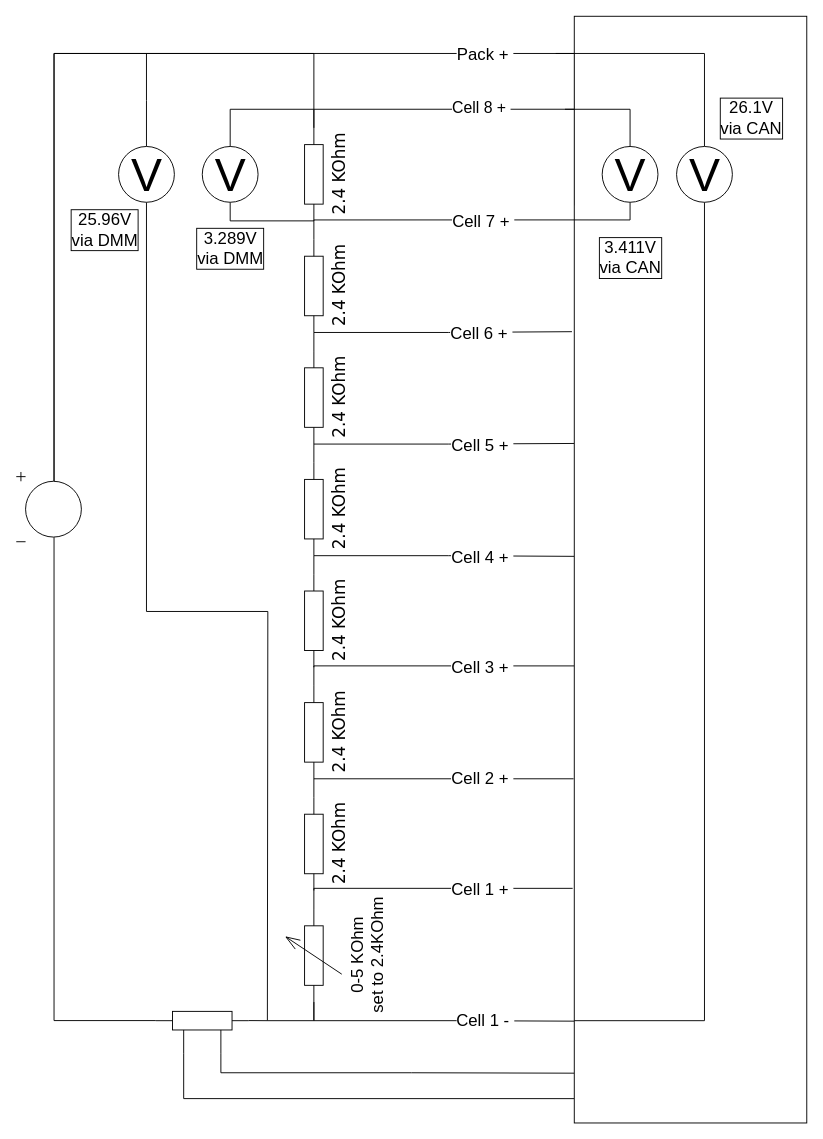
This 823x1139 diagram has some shape labels left out. The box of each missing label's shape, as (x1, y1, x2, y2) in pixels:
24-29V set to 26.00V: (15, 471, 81, 542)
REC Q BMS: (573, 15, 807, 1123)
Shunt: (155, 1010, 249, 1053)
